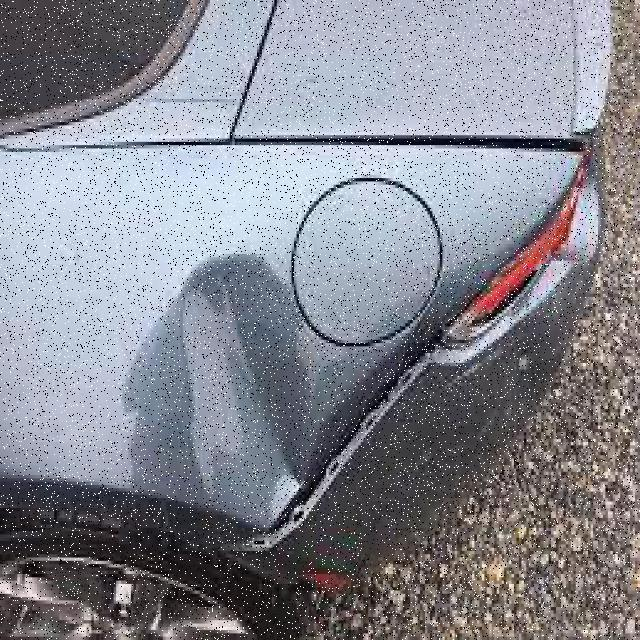quaterpanel-dent: (0, 141, 428, 535)
